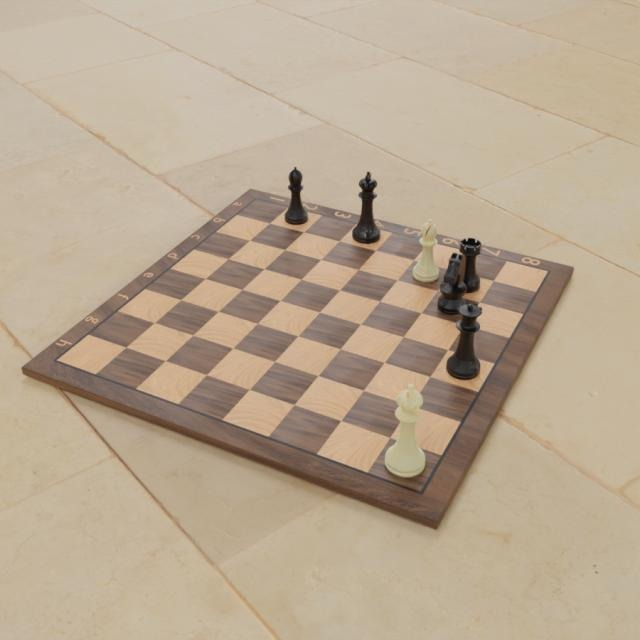black-bishop: (282, 166, 310, 226)
black-king: (350, 167, 382, 245)
black-knight: (437, 250, 467, 315)
black-queen: (445, 300, 483, 383)
black-rook: (457, 236, 482, 294)
white-bishop: (410, 216, 440, 285)
white-king: (384, 384, 428, 480)
